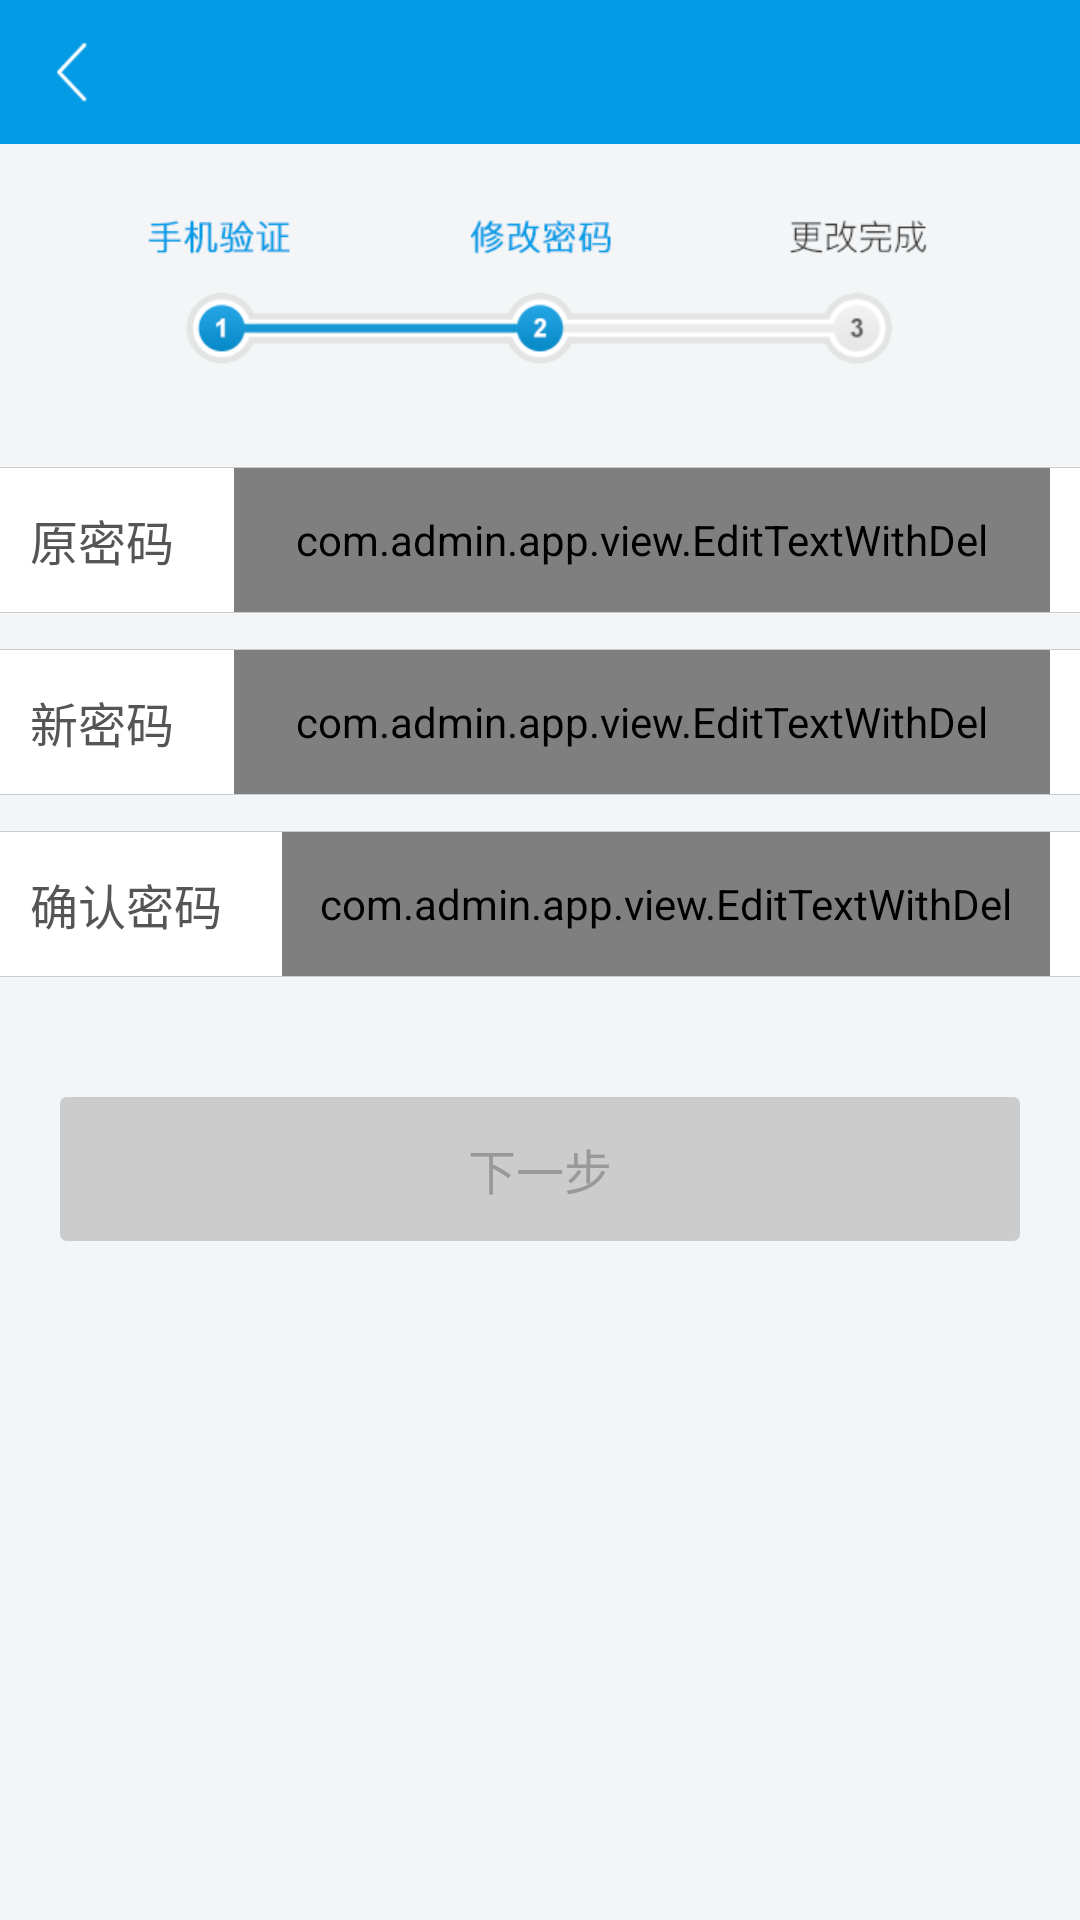

Named icons in this screenshot (1080*1920) and their centers, (x=x, y=y):
arrow left: (x=72, y=72)
